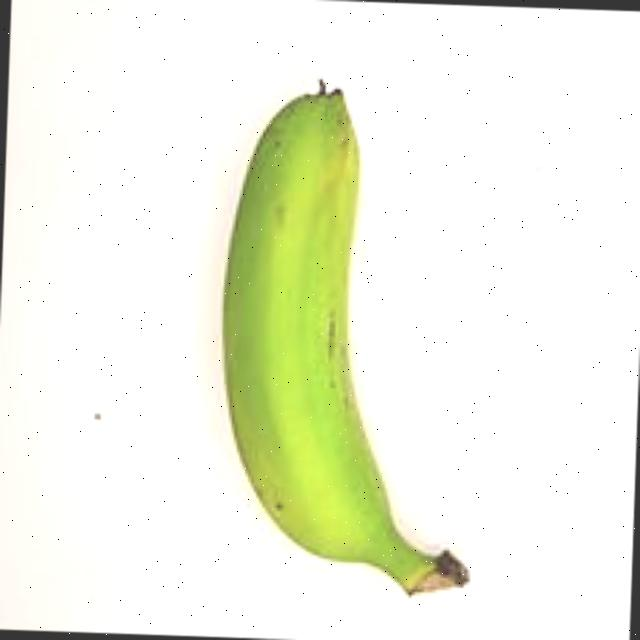Unripe: (180, 58, 526, 625)
